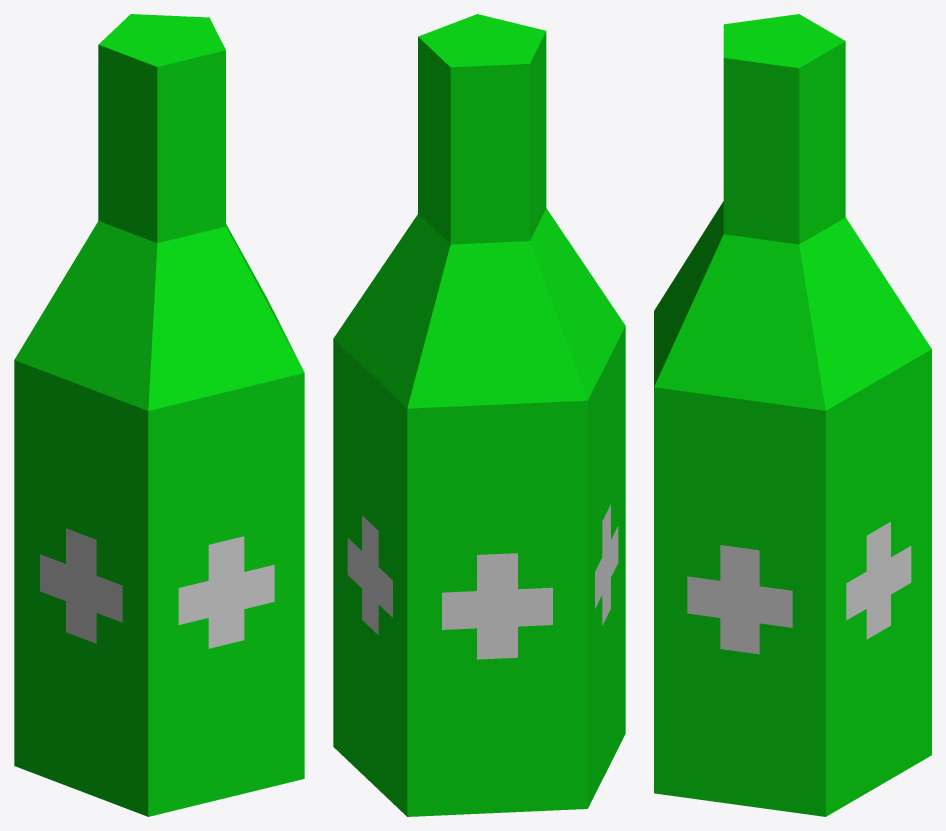
File: heal.fbx
The picture shows the model from 3 angles, left to right: view 1: azimuth 30°, elevation 25°; view 2: azimuth 150°, elevation 25°; view 3: azimuth 270°, elevation 25°; orthographic projection.
Visible parts, largest first — view 1: Cylinder; view 2: Cylinder; view 3: Cylinder.
Boxes of the visible parts, left/top/right/bottom form: Cylinder: left=14, top=14, right=304, bottom=816; Cylinder: left=333, top=14, right=625, bottom=816; Cylinder: left=654, top=14, right=931, bottom=816.
Bounding box in the file's own units: 190 × 513 × 181.
